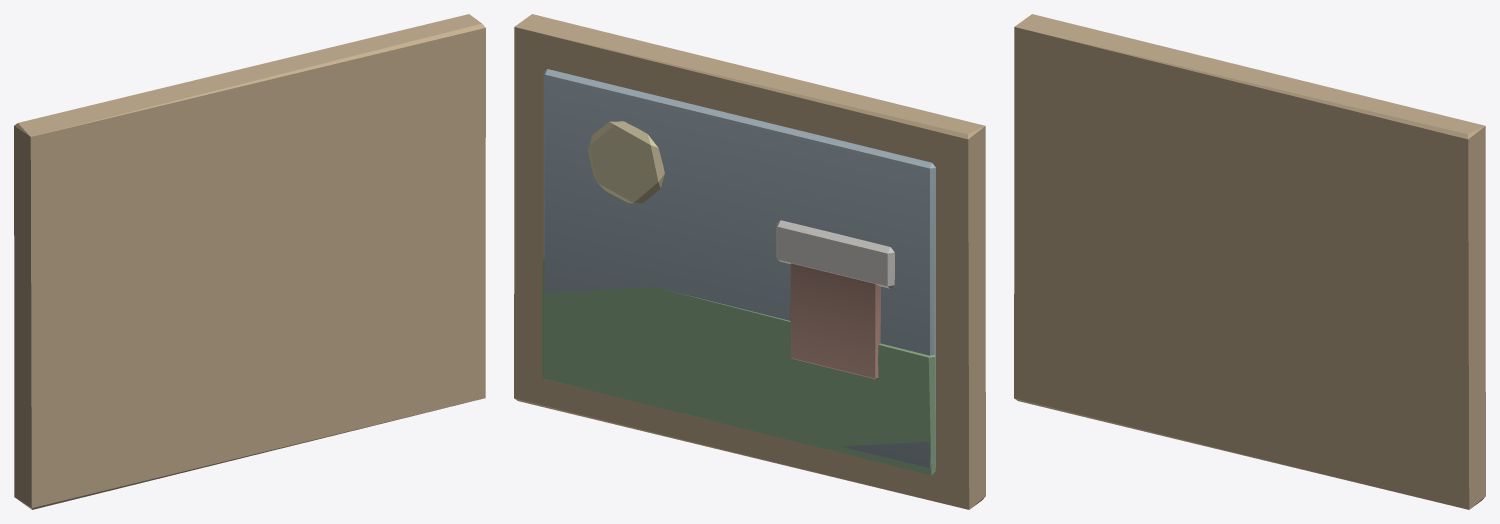
File: furn_picture_frame__oak_low.glb
The picture shows the model from 3 angles, left to right: view 1: azimuth 30°, elevation 25°; view 2: azimuth 150°, elevation 25°; view 3: azimuth 330°, elevation 25°; orthographic projection.
Size of the model in its own units: 0.6954 by 0.55 by 0.0644.
